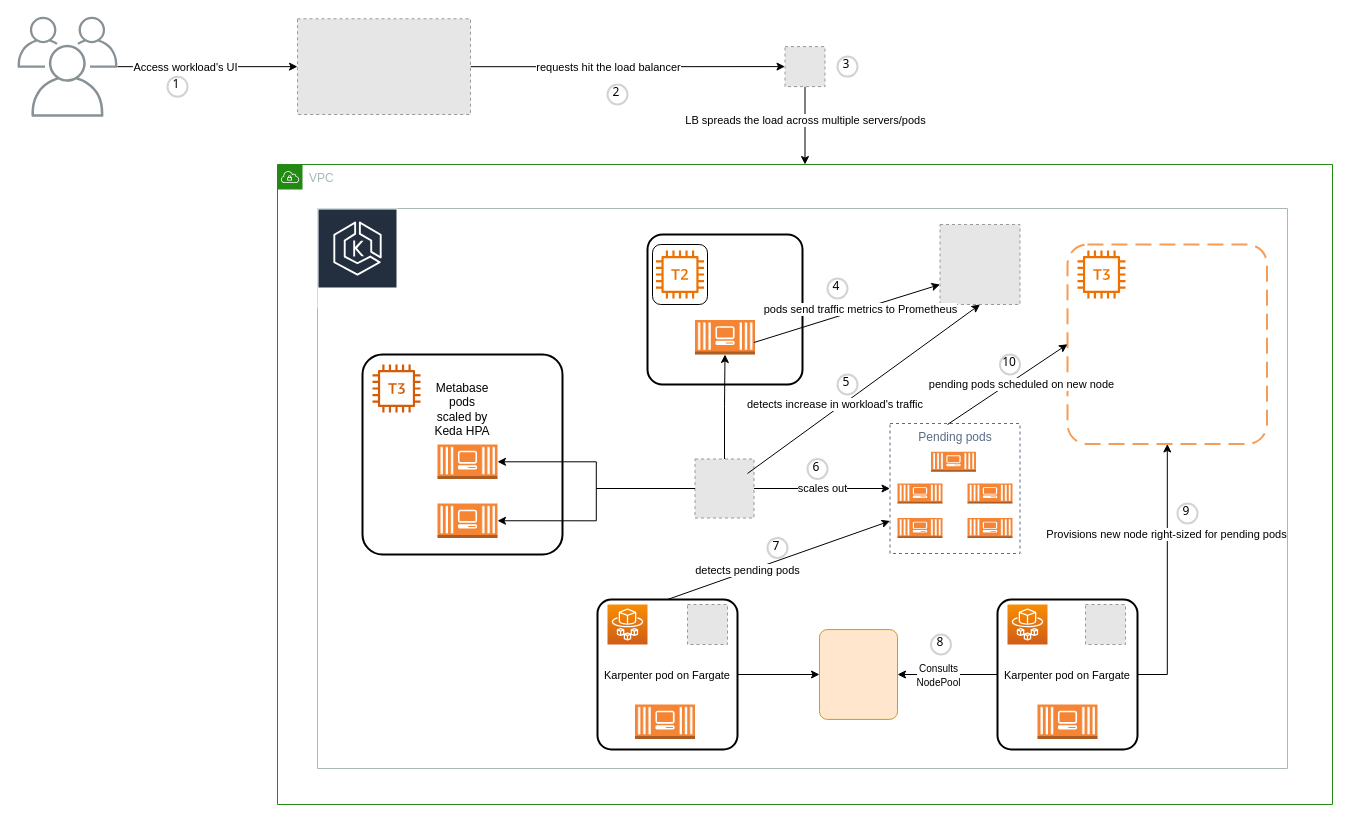
Image size: 1350x823. Some labels were removed from this diagram. Grey dashed boxes stand in for pictures. Each missing label, with the centre of its shape:
Amazon EKS: point (357, 258)
NodePool: t2.micro t3.micro t3.small: point (858, 674)
users: point (67, 66)
